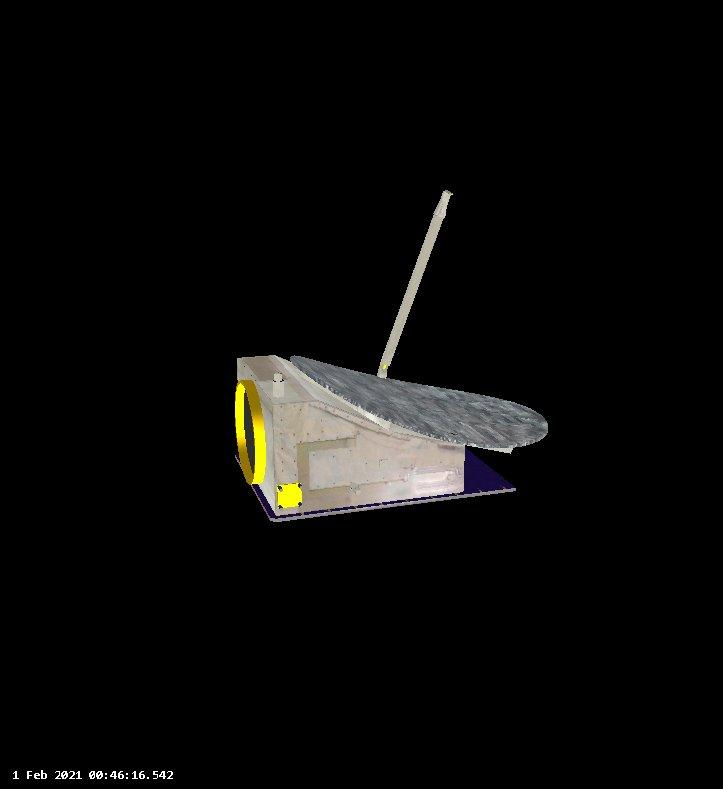antenna: (284, 182, 570, 452)
body: (229, 349, 475, 519)
solar: (247, 446, 524, 524)
